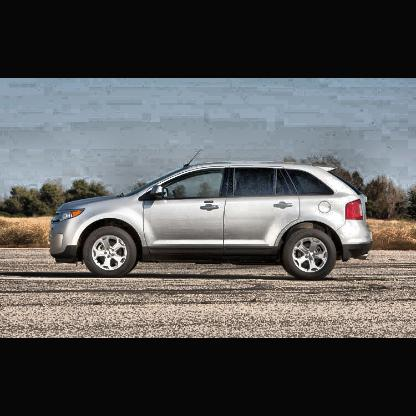Ford Edge SUV 2012: (49, 151, 373, 279)
